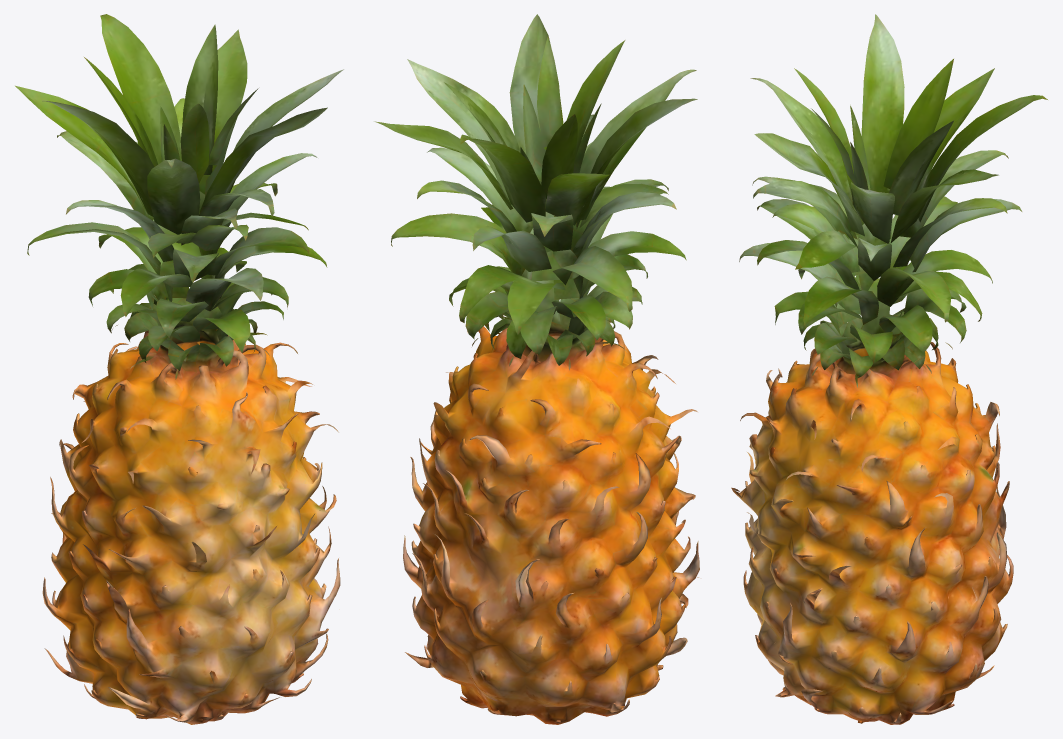
The model's file is pineapple.glb.
3 views of the same model, side by side, from view 1: azimuth 30°, elevation 25°; view 2: azimuth 150°, elevation 25°; view 3: azimuth 270°, elevation 25° (orthographic). The views are drawn at different scales.
Parts seen in each view (by area): view 1: tripo_node_43c5e79b-8a87-45ad-bff7-31bcbd27a978; view 2: tripo_node_43c5e79b-8a87-45ad-bff7-31bcbd27a978; view 3: tripo_node_43c5e79b-8a87-45ad-bff7-31bcbd27a978.
Part boxes in pixels (left/top/right/bottom): tripo_node_43c5e79b-8a87-45ad-bff7-31bcbd27a978: left=15, top=14, right=343, bottom=724; tripo_node_43c5e79b-8a87-45ad-bff7-31bcbd27a978: left=374, top=14, right=699, bottom=724; tripo_node_43c5e79b-8a87-45ad-bff7-31bcbd27a978: left=731, top=14, right=1047, bottom=724.
Size of the model in its own units: 1.53 by 3.15 by 1.46.
1 material, 1 textured.
